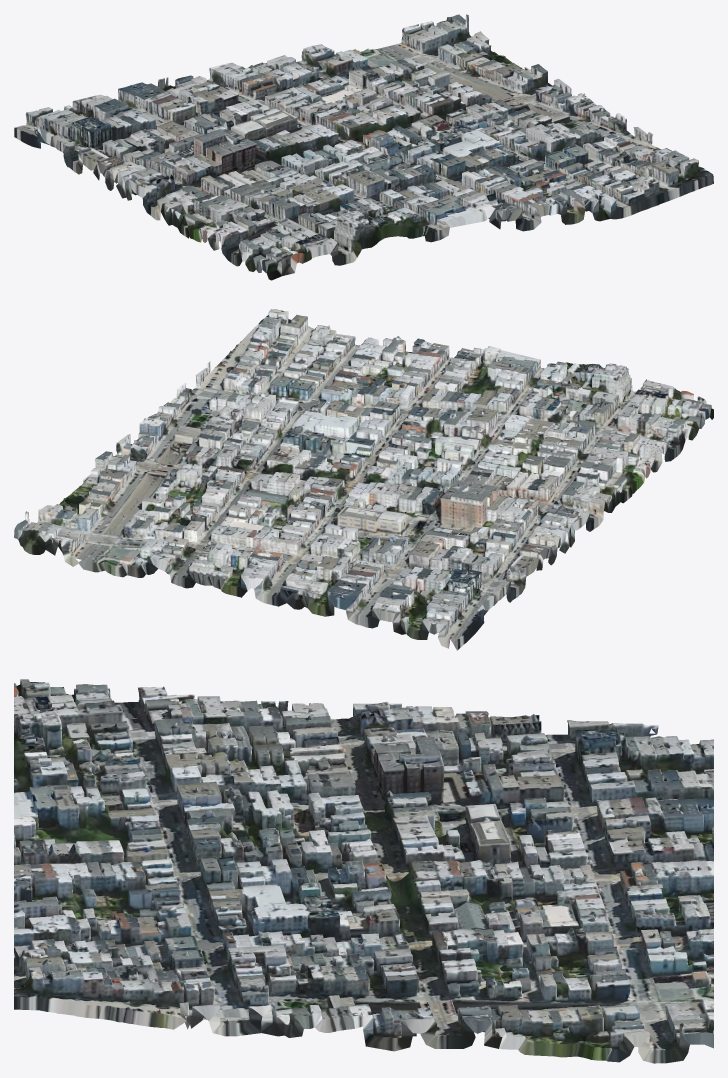
Rendered from z16-10482-25326-h0-yup-uvflip-v3-world.glb.
The picture shows the model from 3 angles, top to bottom: view 1: azimuth 30°, elevation 25°; view 2: azimuth 150°, elevation 25°; view 3: azimuth 270°, elevation 25°; orthographic projection. The views are drawn at different scales.
Size of the model in its own units: 483 by 92.8 by 485.
Materials: 1 (1 with a texture image).
